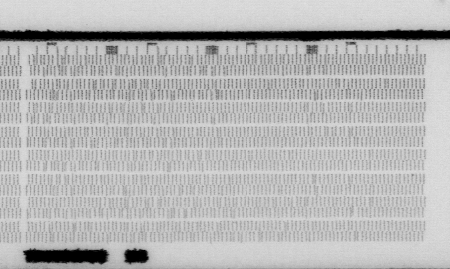Oblique printing: (32, 124, 174, 243), (31, 48, 233, 122), (299, 63, 361, 102), (306, 171, 322, 207), (231, 231, 265, 245), (197, 147, 212, 173), (227, 194, 240, 218), (214, 126, 226, 149), (342, 172, 356, 187), (277, 220, 292, 233), (318, 101, 331, 115), (205, 232, 218, 246), (342, 125, 355, 138), (344, 205, 356, 218), (363, 197, 376, 209), (182, 207, 195, 219), (216, 196, 228, 209)
